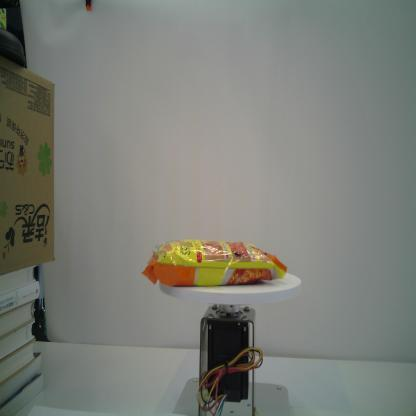Instant Noodles: (141, 238, 289, 289)
